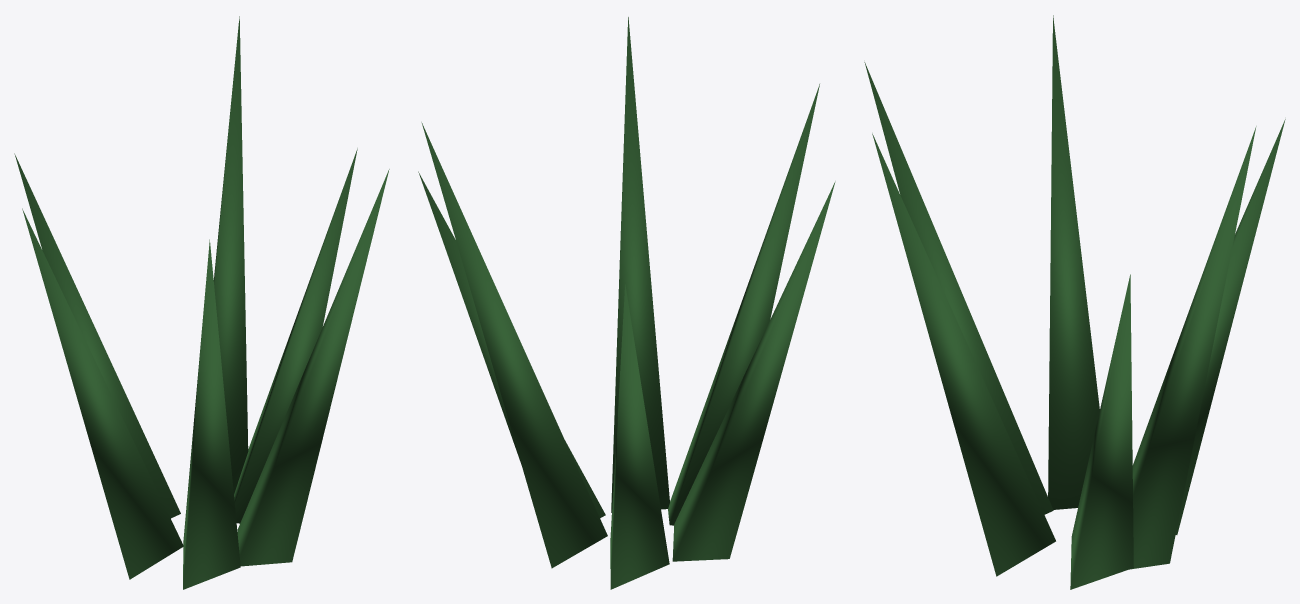
File: grass_tuft.glb
The picture shows the model from 3 angles, left to right: view 1: azimuth 30°, elevation 25°; view 2: azimuth 150°, elevation 25°; view 3: azimuth 270°, elevation 25°; orthographic projection. The views are drawn at different scales.
Visible parts, largest first — view 1: GrassTuft; view 2: GrassTuft; view 3: GrassTuft.
Part boxes in pixels (x1=…): GrassTuft: x1=14, y1=16, x2=389, y2=589; GrassTuft: x1=418, y1=17, x2=835, y2=589; GrassTuft: x1=864, y1=15, x2=1285, y2=589.
Bounding box in the file's own units: 0.3347 × 0.3851 × 0.301.
